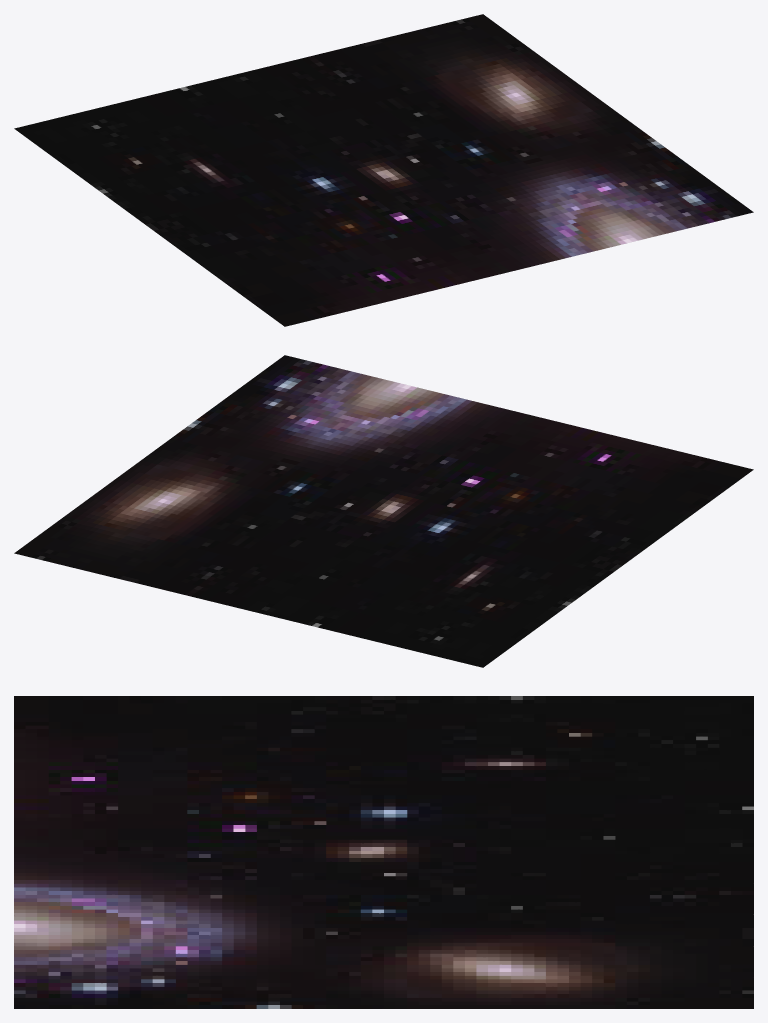
Rendered from space_background.obj.
3 renders of one model, top to bottom at view 1: azimuth 30°, elevation 25°; view 2: azimuth 150°, elevation 25°; view 3: azimuth 270°, elevation 25°, orthographic. The views are drawn at different scales.
Visible parts, largest first — view 1: pPlane1; view 2: pPlane1; view 3: pPlane1.
Part boxes in pixels (bbox=[...]): pPlane1: bbox=[14, 14, 753, 326]; pPlane1: bbox=[14, 355, 753, 667]; pPlane1: bbox=[14, 696, 753, 1008].
Size of the model in its own units: 11.32 by 0 by 11.32.
Materials: 1 (1 with a texture image).
